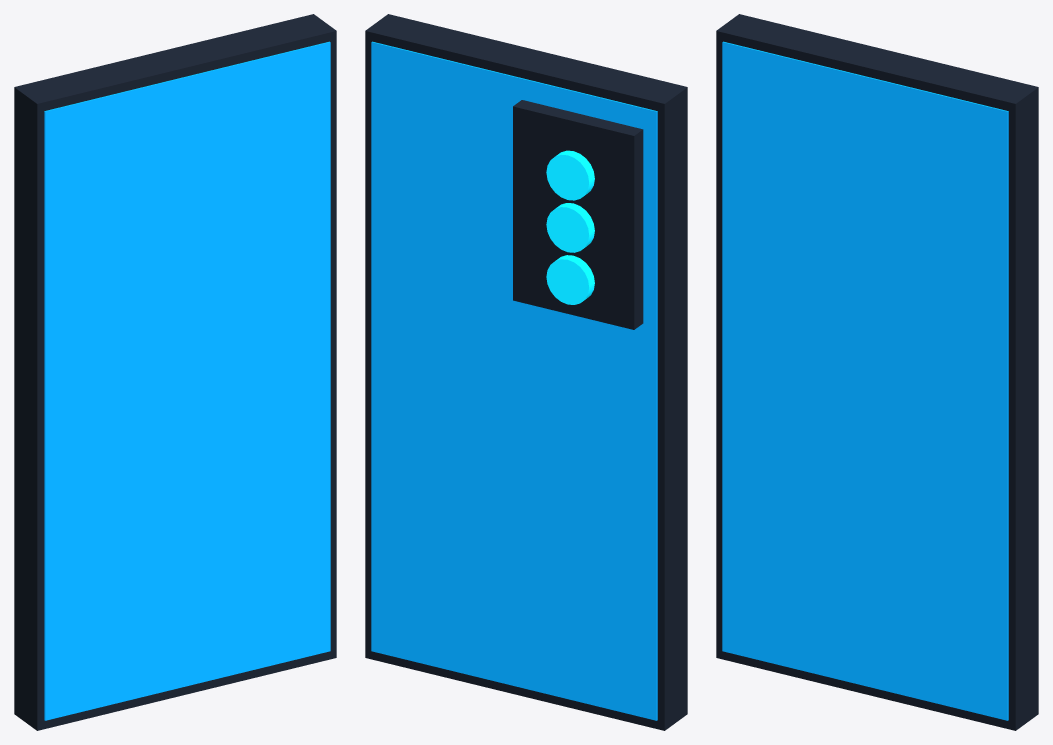
Rendered from smartphone.glb.
The picture shows the model from 3 angles, left to right: view 1: azimuth 30°, elevation 25°; view 2: azimuth 150°, elevation 25°; view 3: azimuth 330°, elevation 25°; orthographic projection.
Visible parts, largest first — view 1: FTS_Smartphone; view 2: FTS_Smartphone; view 3: FTS_Smartphone.
Part boxes in pixels (x1,y1,x2,y2): FTS_Smartphone: [14, 14, 336, 730]; FTS_Smartphone: [365, 14, 687, 730]; FTS_Smartphone: [716, 14, 1038, 730].
Size of the model in its own units: 2.1 by 4.2 by 0.48.
